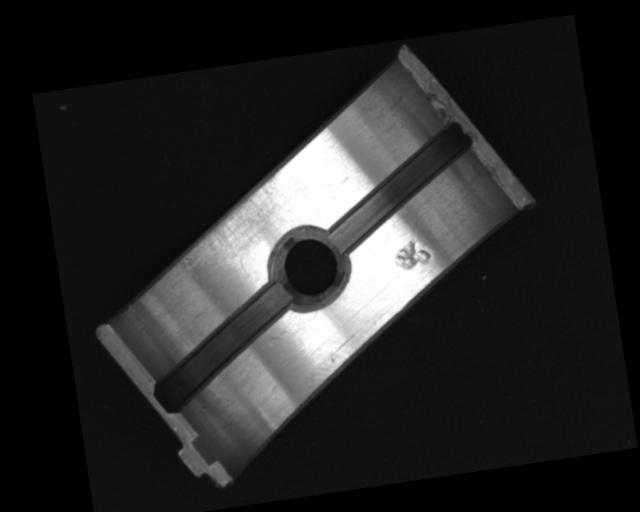bruise: (390, 233, 433, 273)
gap: (316, 120, 483, 255), (139, 279, 305, 412)
hole: (265, 221, 357, 314)
scratch: (159, 169, 295, 282)
